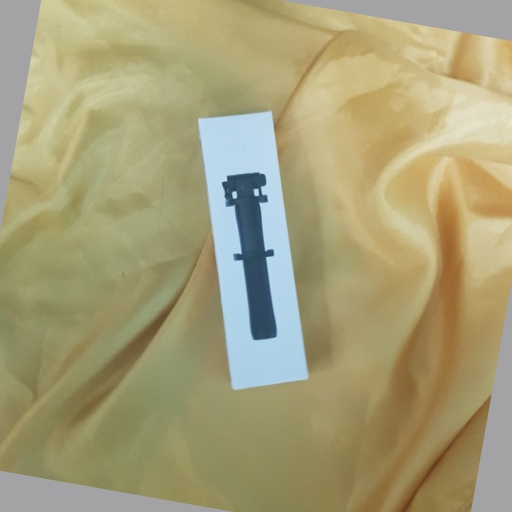Paper_0: (194, 108, 319, 395)
